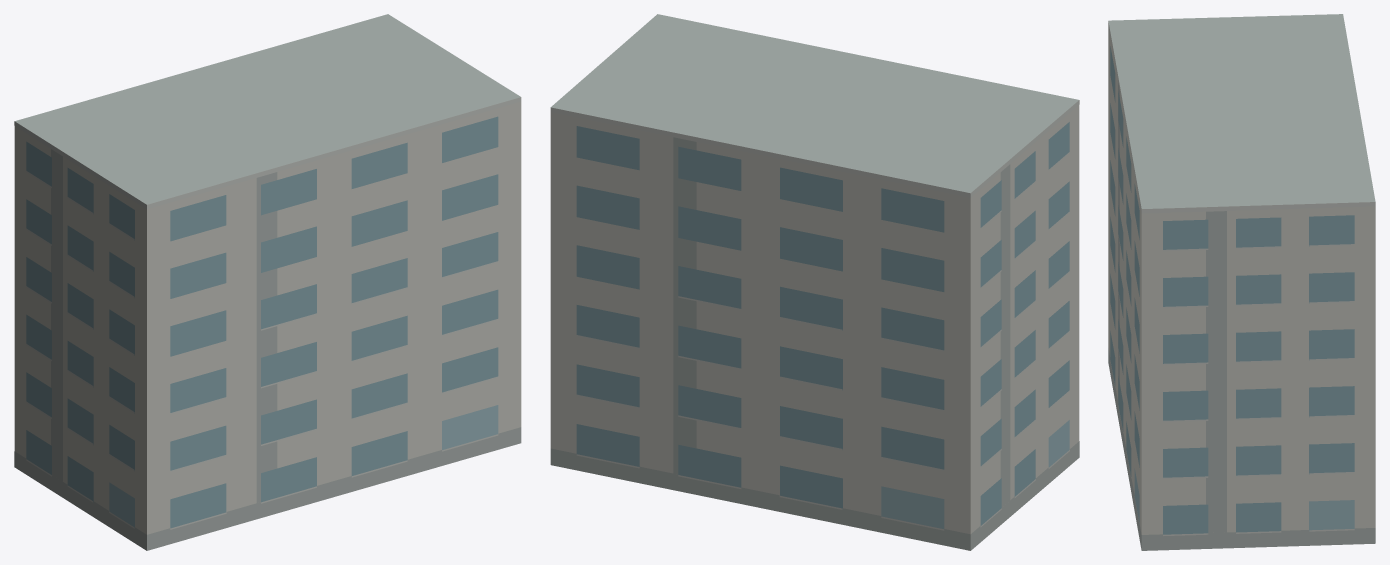
Rendered from survey-upis-32798542.glb.
3 renders of one model, left to right at view 1: azimuth 30°, elevation 25°; view 2: azimuth 150°, elevation 25°; view 3: azimuth 270°, elevation 25°, orthographic. The views are drawn at different scales.
Visible parts, largest first — view 1: survey-upis-32798542.tmp; view 2: survey-upis-32798542.tmp; view 3: survey-upis-32798542.tmp.
Part boxes in pixels (bbox=[...]): survey-upis-32798542.tmp: bbox=[14, 14, 521, 550]; survey-upis-32798542.tmp: bbox=[550, 14, 1079, 550]; survey-upis-32798542.tmp: bbox=[1108, 14, 1375, 550].
Bounding box in the file's own units: 22.42 × 18.3 × 12.98.
